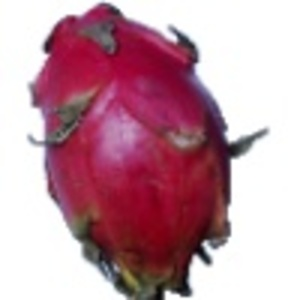pitaia: (28, 1, 269, 300)
